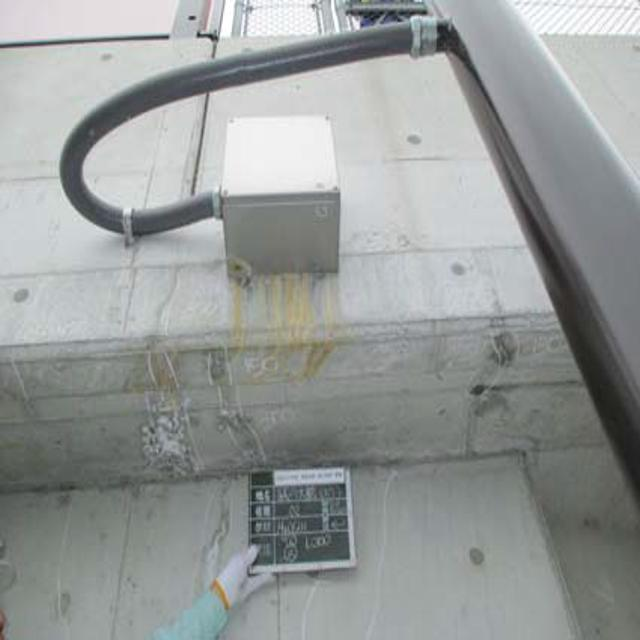freelime: (139, 394, 197, 483)
